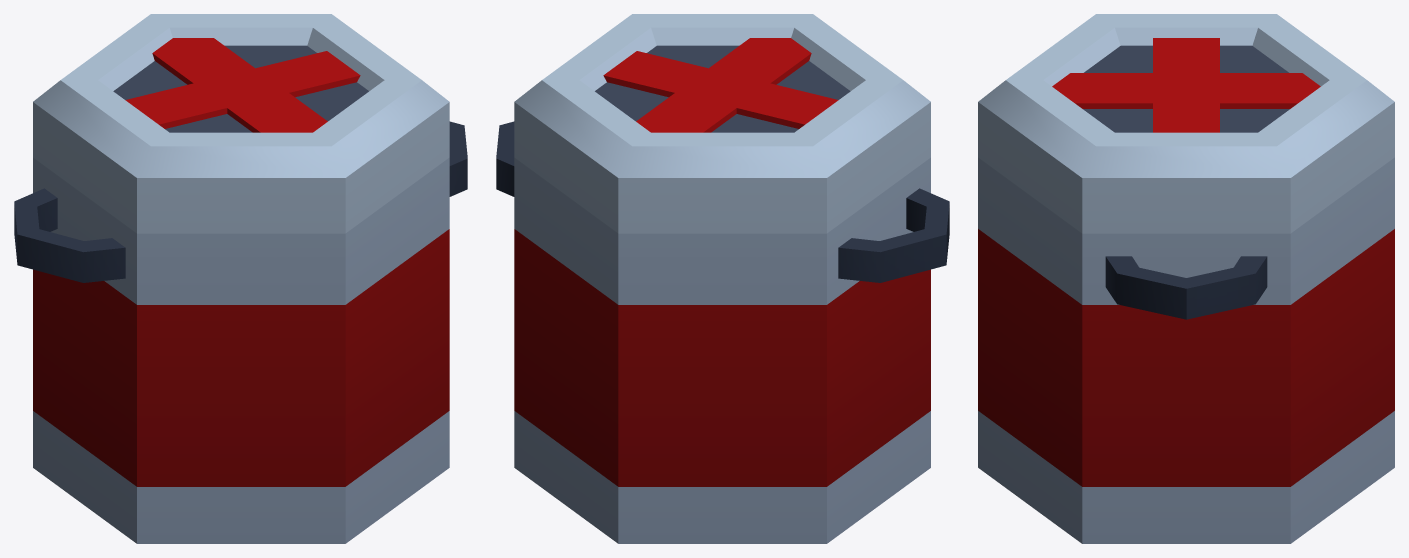
Rendered from Health Kit 01.FBX.
3 views of the same model, side by side, from view 1: azimuth 30°, elevation 25°; view 2: azimuth 150°, elevation 25°; view 3: azimuth 270°, elevation 25° (orthographic).
Parts seen in each view (by area): view 1: Health Kit 01; view 2: Health Kit 01; view 3: Health Kit 01.
Boxes of the visible parts, x1,y1,x2,y2 form: Health Kit 01: (14, 14, 467, 543); Health Kit 01: (496, 14, 949, 543); Health Kit 01: (978, 14, 1394, 543).
Bounding box in the file's own units: 92.72 × 76.8 × 74.87.
1 material, 1 textured.
